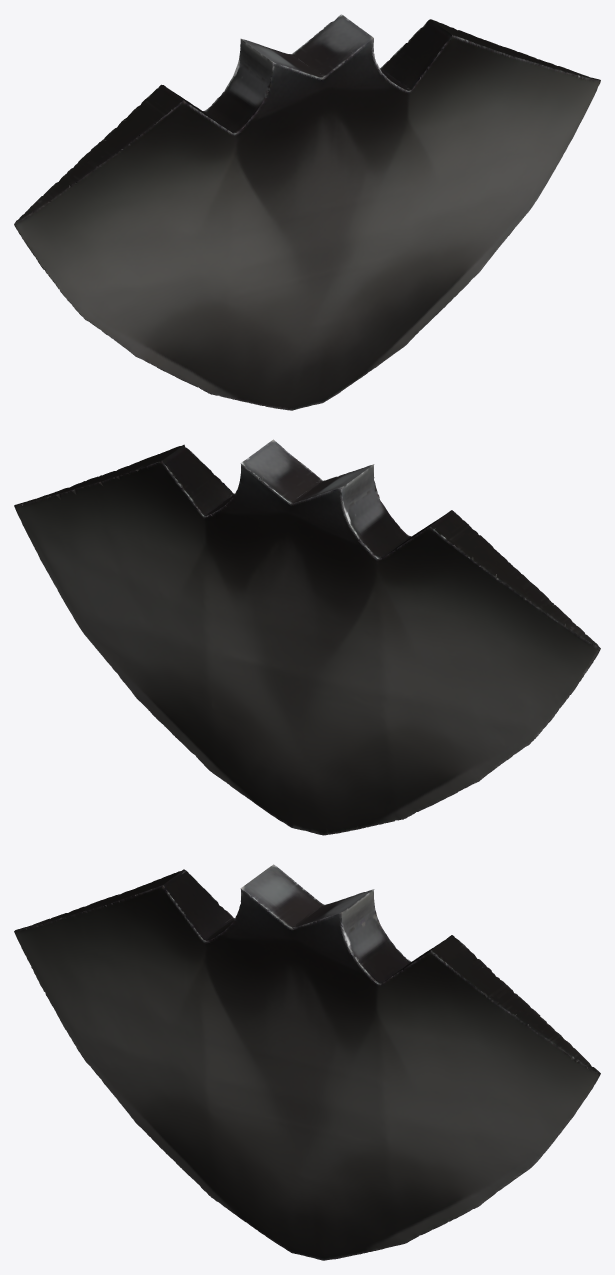
File: phantom_wing_R.glb
The picture shows the model from 3 angles, top to bottom: view 1: azimuth 30°, elevation 25°; view 2: azimuth 150°, elevation 25°; view 3: azimuth 330°, elevation 25°; orthographic projection.
Visible parts, largest first — view 1: phantom_wing_R; view 2: phantom_wing_R; view 3: phantom_wing_R.
Boxes of the visible parts, x1=… form: phantom_wing_R: x1=14, y1=14, x2=600, y2=410; phantom_wing_R: x1=14, y1=439, x2=600, y2=835; phantom_wing_R: x1=14, y1=864, x2=600, y2=1260.
Size of the model in its own units: 1.89 by 1.13 by 0.184.
Materials: 1 (1 with a texture image).
